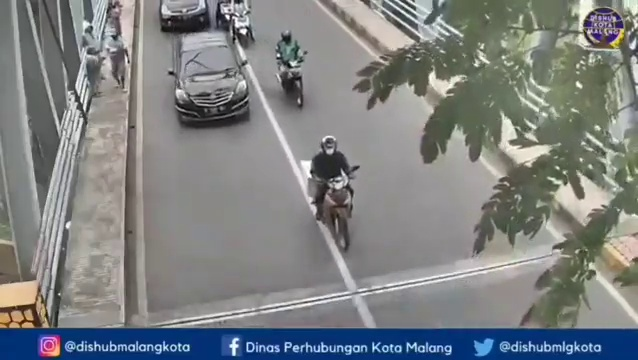car: (170, 30, 255, 127)
motorbike: (297, 132, 354, 243), (277, 31, 306, 107), (230, 1, 253, 47)
